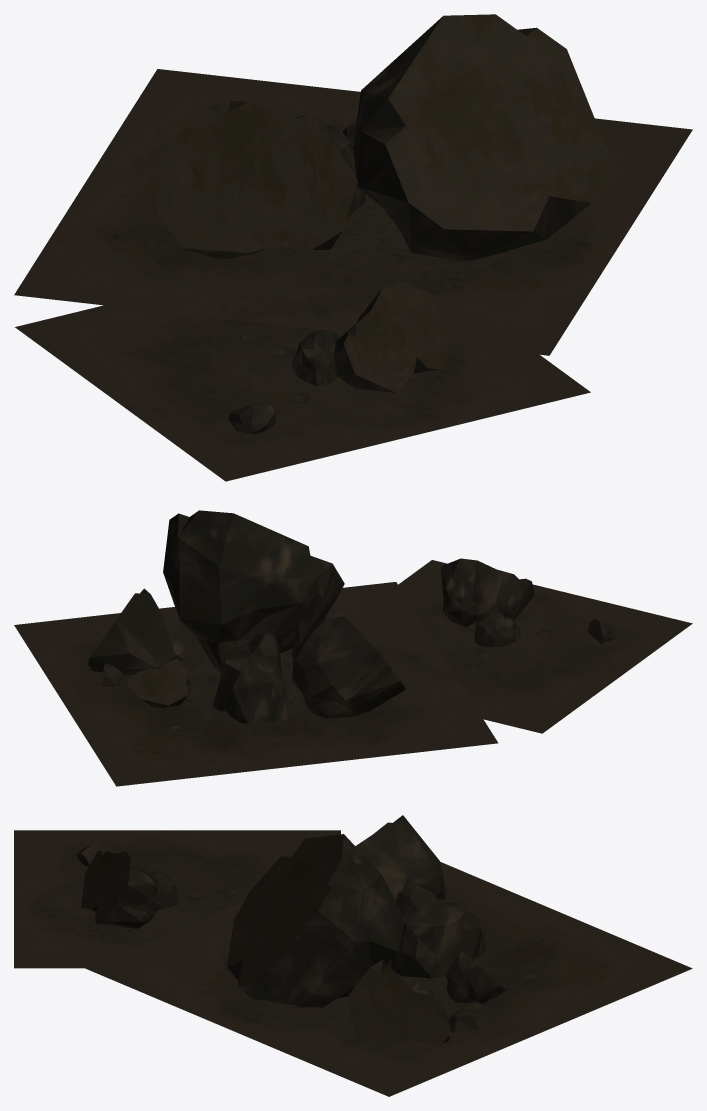
Rendered from fortress_rubble_06.fbx.
3 renders of one model, top to bottom at view 1: azimuth 30°, elevation 25°; view 2: azimuth 150°, elevation 25°; view 3: azimuth 270°, elevation 25°, orthographic. The views are drawn at different scales.
Visible parts, largest first — view 1: fortress_rubble_06-0; view 2: fortress_rubble_06-0; view 3: fortress_rubble_06-0.
Part boxes in pixels (<box>): fortress_rubble_06-0: <box>14,14,692,481</box>; fortress_rubble_06-0: <box>14,510,692,786</box>; fortress_rubble_06-0: <box>14,815,692,1096</box>.
Bounding box in the file's own units: 4.91 × 1.41 × 5.25.
